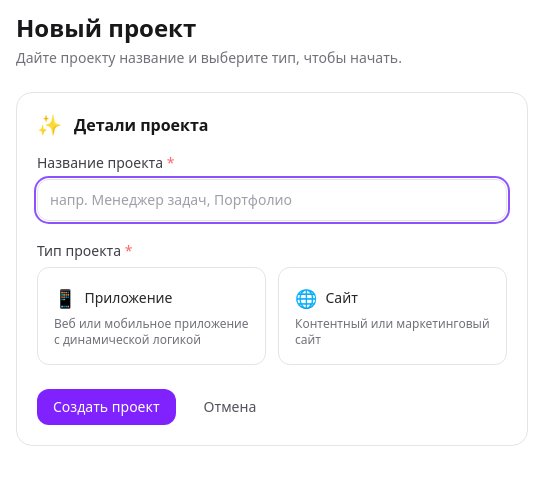
Test case: B. Validation — errors shown on invalid submit › shows name error when type is selected but name is empty
What coordinates should you click on to do the following:
click the text "Приложение"
I would click on:
 (129, 298)
Its box is x1=84 y1=288 x2=173 y2=308.
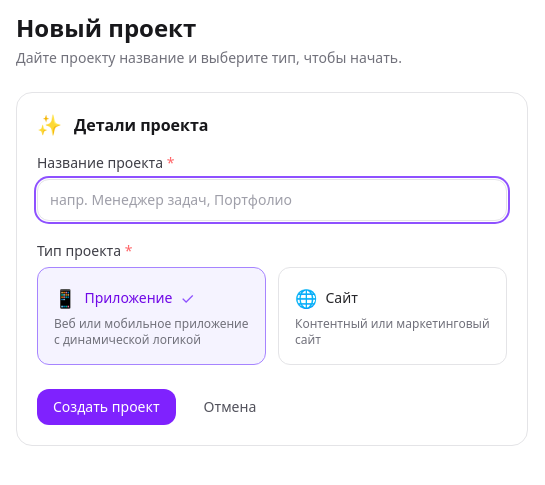
What coordinates should you click on to do the following:
click the button "Создать проект"
I would click on:
 (106, 407)
Its box is x1=37 y1=389 x2=176 y2=425.
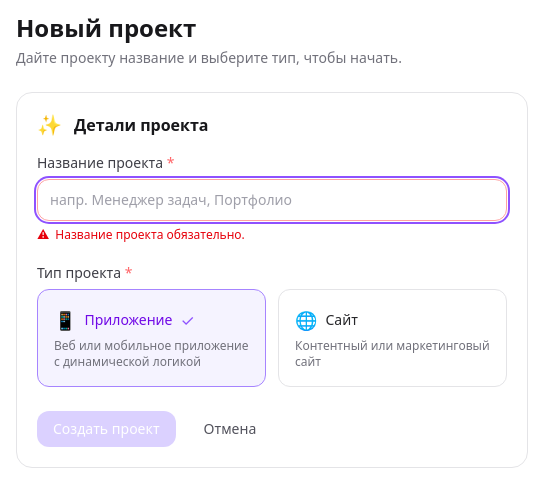
expect the text "⚠ Название проекта обязательно." is shown: met, box x1=37 y1=226 x2=245 y2=243
